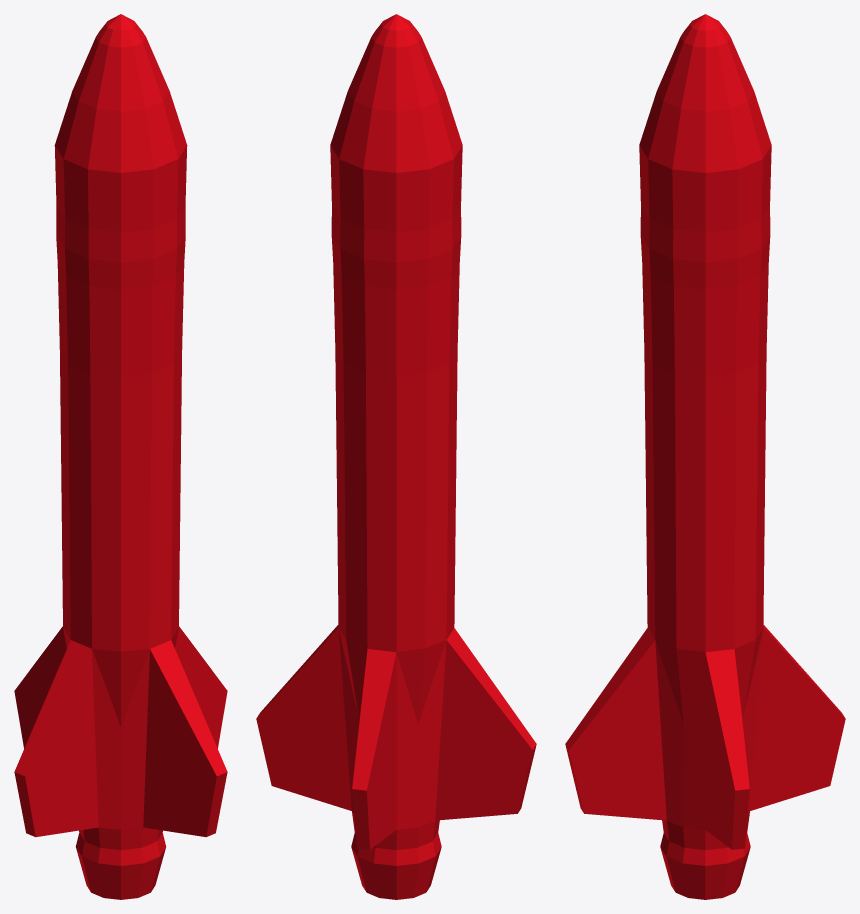
Rendered from Missile 5.fbx.
The picture shows the model from 3 angles, left to right: view 1: azimuth 30°, elevation 25°; view 2: azimuth 150°, elevation 25°; view 3: azimuth 270°, elevation 25°; orthographic projection.
Visible parts, largest first — view 1: Cube.004; view 2: Cube.004; view 3: Cube.004.
Boxes of the visible parts, box(x1,y1,x2,y2) form: Cube.004: box(14, 14, 227, 899); Cube.004: box(256, 14, 536, 899); Cube.004: box(565, 14, 845, 899).
Bounding box in the file's own units: 239 × 819 × 239.
